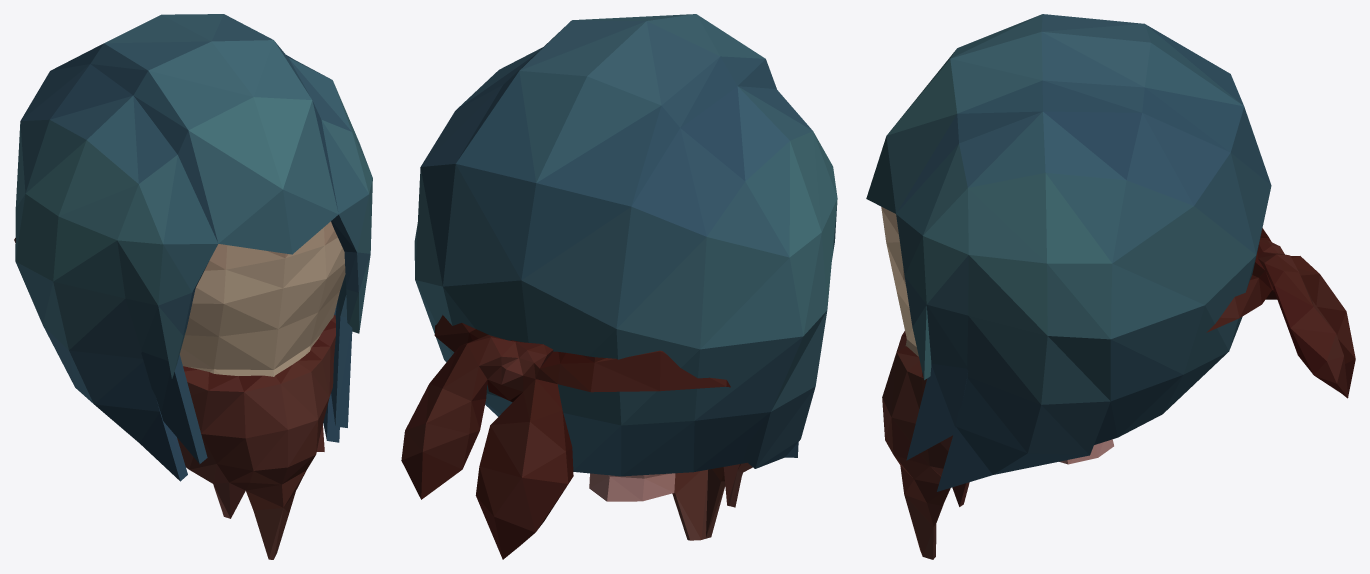
File: helm_lightskin_bob_blue_bandana.fbx
3 renders of one model, left to right at view 1: azimuth 30°, elevation 25°; view 2: azimuth 150°, elevation 25°; view 3: azimuth 270°, elevation 25°, orthographic. The views are drawn at different scales.
Parts seen in each view (by area): view 1: helm_lightskin_bob_blue_bandana; view 2: helm_lightskin_bob_blue_bandana; view 3: helm_lightskin_bob_blue_bandana.
Part boxes in pixels (box(x1,y1,x2,y2)): helm_lightskin_bob_blue_bandana: box(14, 14, 372, 559); helm_lightskin_bob_blue_bandana: box(401, 14, 837, 559); helm_lightskin_bob_blue_bandana: box(866, 14, 1355, 559).
Bounding box in the file's own units: 1.18 × 1.65 × 1.4.
